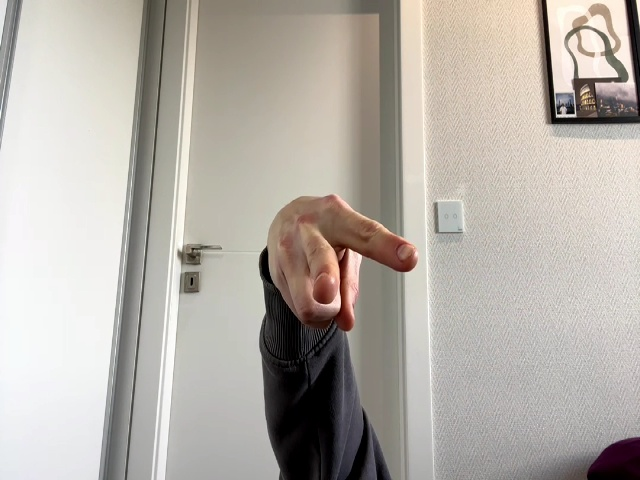U: (267, 194, 417, 330)
